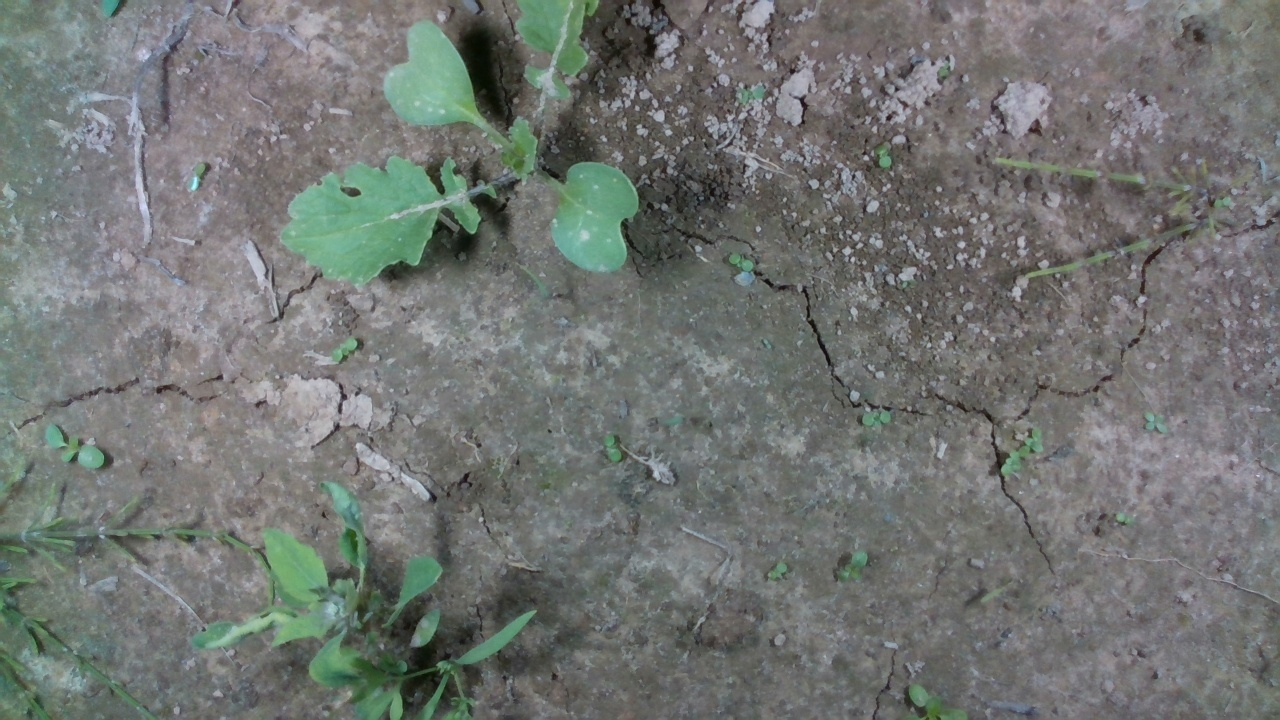weed: (1137, 407, 1177, 440), (863, 403, 896, 442), (598, 429, 629, 467), (327, 334, 368, 362), (726, 243, 761, 274), (874, 143, 900, 176), (766, 554, 795, 579)
